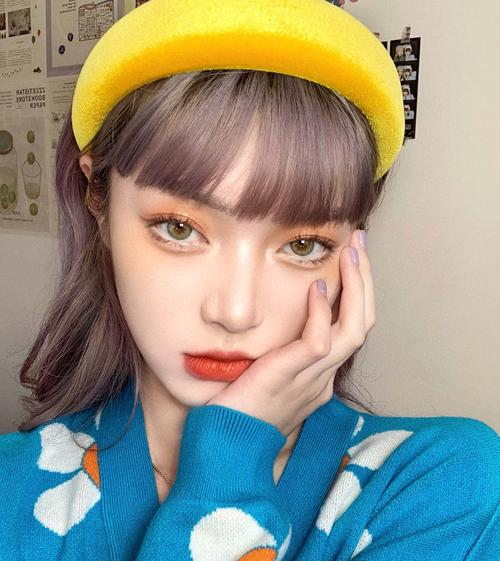no_mask: (92, 106, 367, 410)
